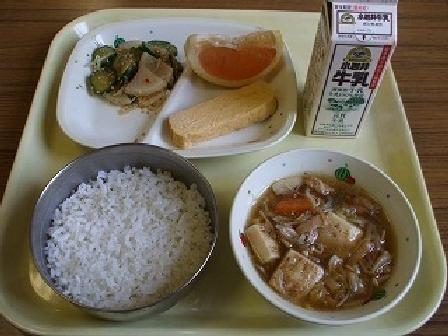Bread: (163, 81, 279, 150)
Citrus: (177, 22, 297, 83)
Milk: (297, 1, 405, 143)
Rice: (34, 152, 216, 310)
Salad: (79, 28, 177, 108)
vegetable soup: (242, 151, 417, 313)
